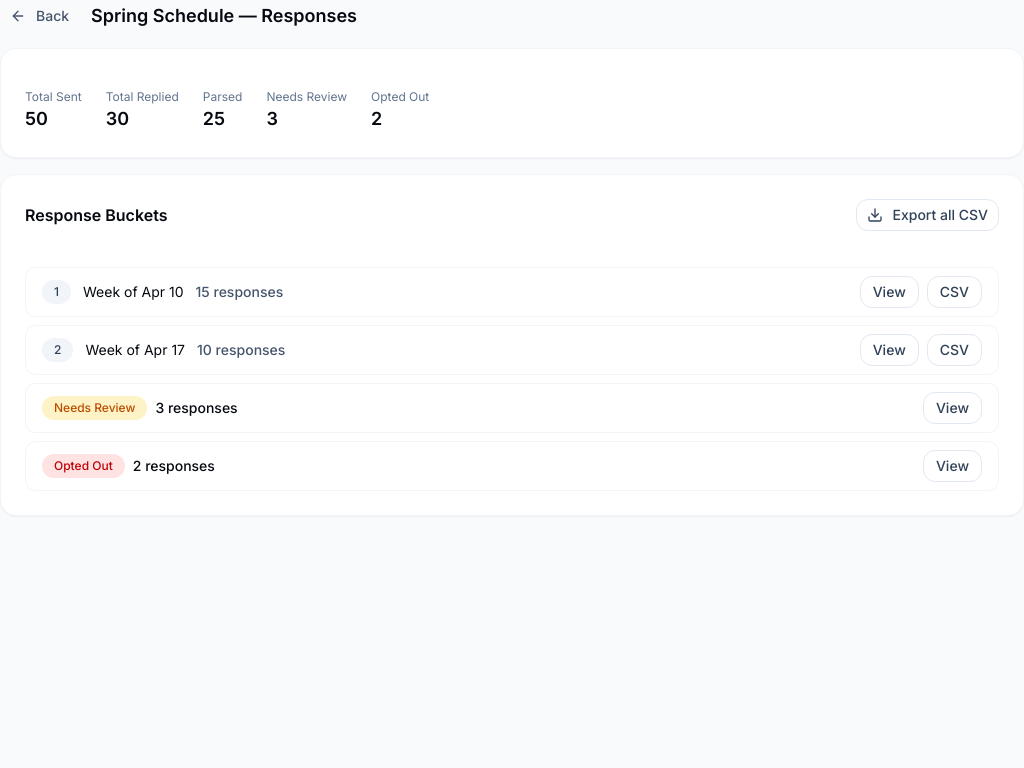
CampaignResponsesView › renders response rows in drill-down table
Click the button with test id "view-option-1-btn": (889, 292) [860,276,919,308]
(page scrolled)
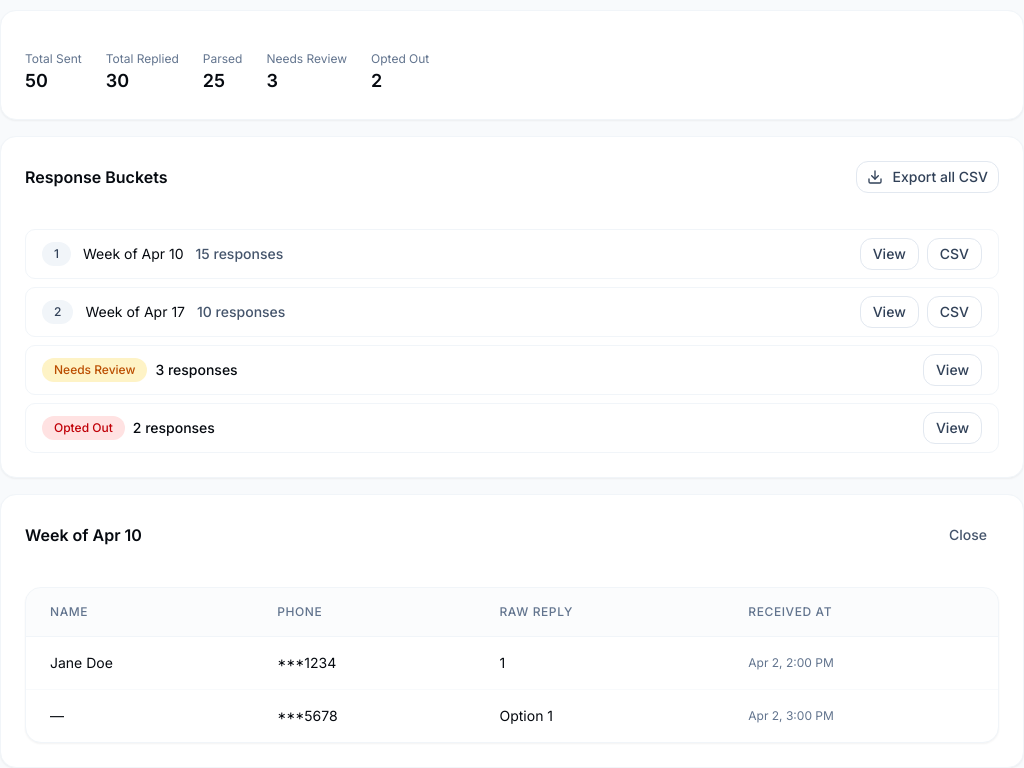
Now the number of rows with test id "response-row" is 2, box [26,636,998,690]; [26,690,998,742]
Now the row with test id "response-row" shows "Jane Doe", box [50,654,113,671]
Now the row with test id "response-row" shows "—", box [50,707,64,724]
